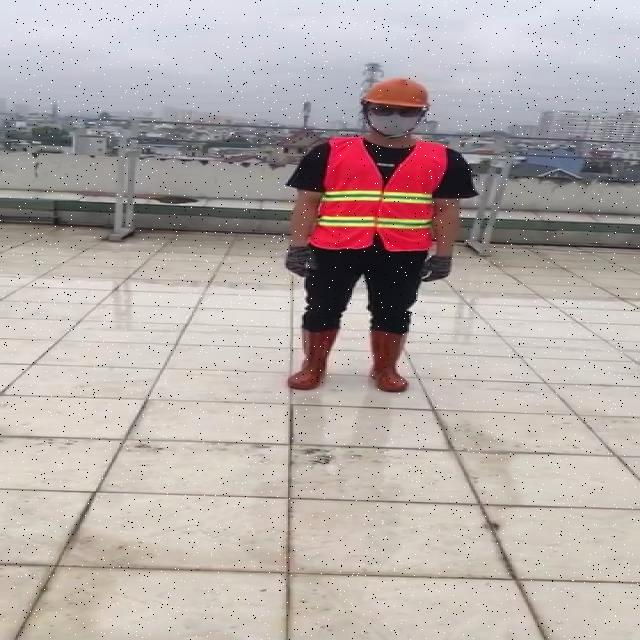Hard_hat: (355, 76, 438, 118)
Person: (272, 72, 472, 406)
Vest: (315, 137, 448, 257)
